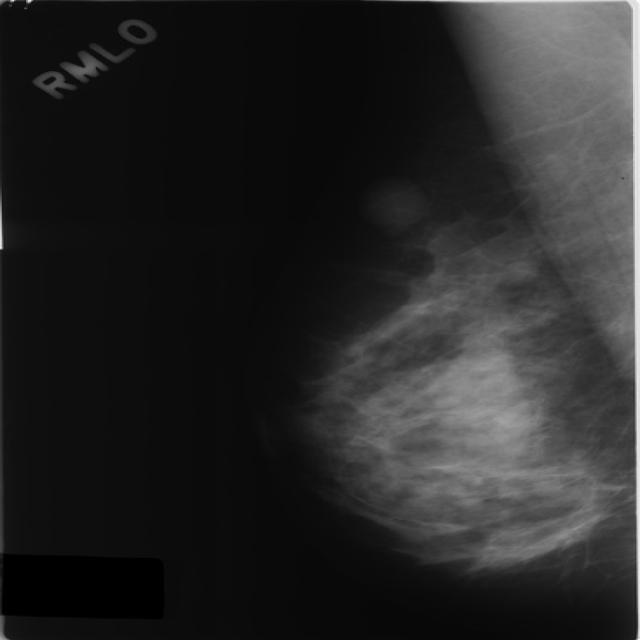tumour: (359, 176, 426, 232)
